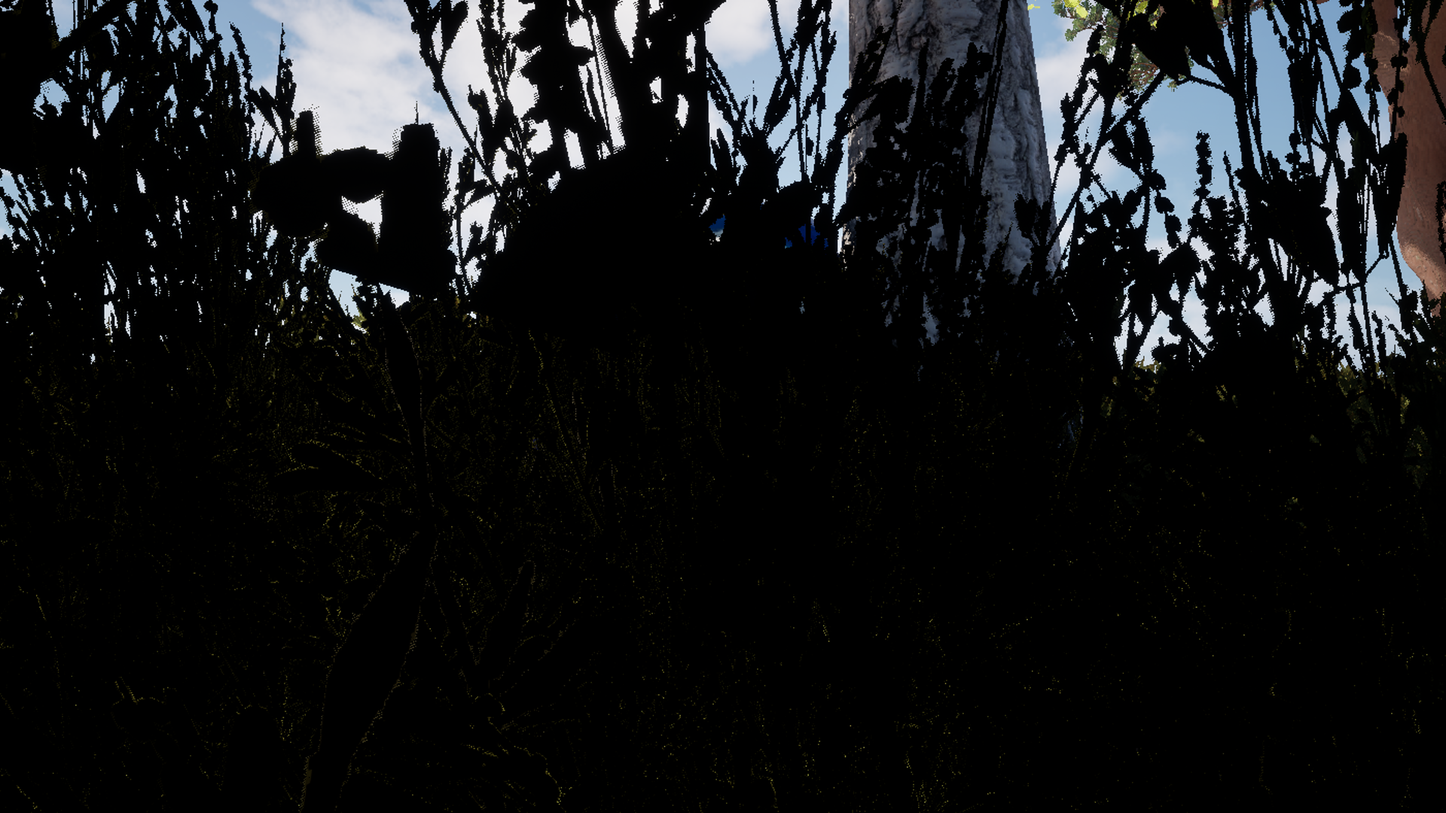Piplup: (277, 91, 1169, 722)
